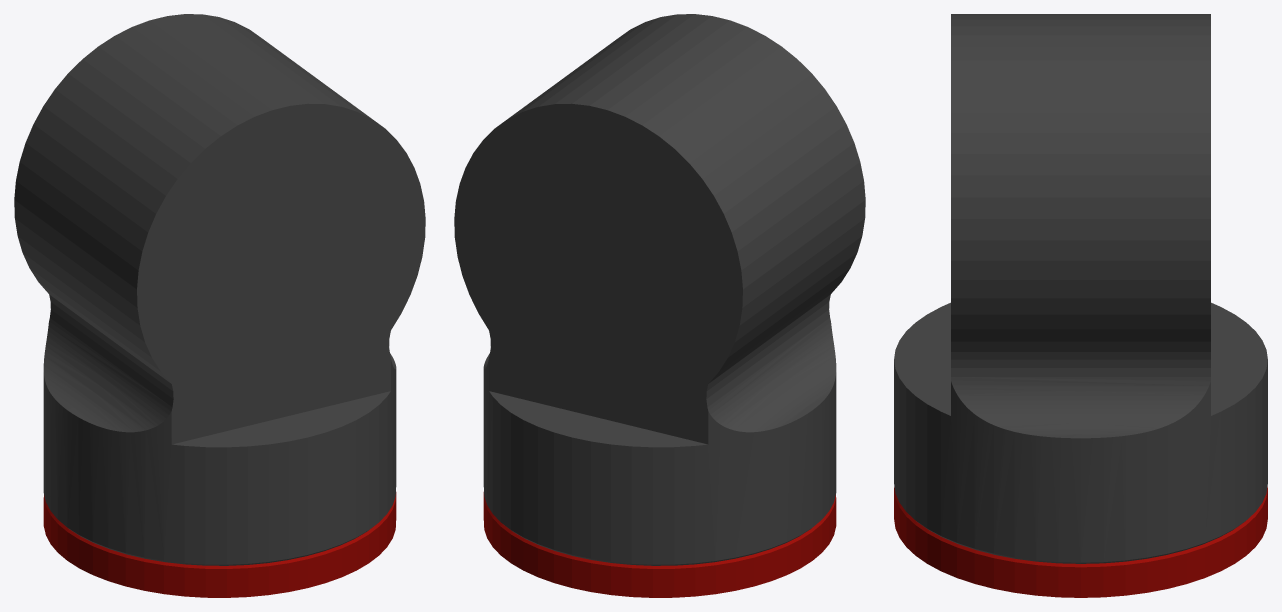
3 renders of one model, left to right at view 1: azimuth 30°, elevation 25°; view 2: azimuth 150°, elevation 25°; view 3: azimuth 270°, elevation 25°, orthographic. The views are drawn at different scales.
Parts seen in each view (by area): view 1: Neewer GM24 lower; view 2: Neewer GM24 lower; view 3: Neewer GM24 lower.
Boxes of the visible parts, x1,y1,x2,y2 form: Neewer GM24 lower: (14, 14, 425, 597); Neewer GM24 lower: (454, 14, 865, 597); Neewer GM24 lower: (894, 14, 1267, 597).
Size of the model in its own units: 0.037 by 0.037 by 0.0533.
